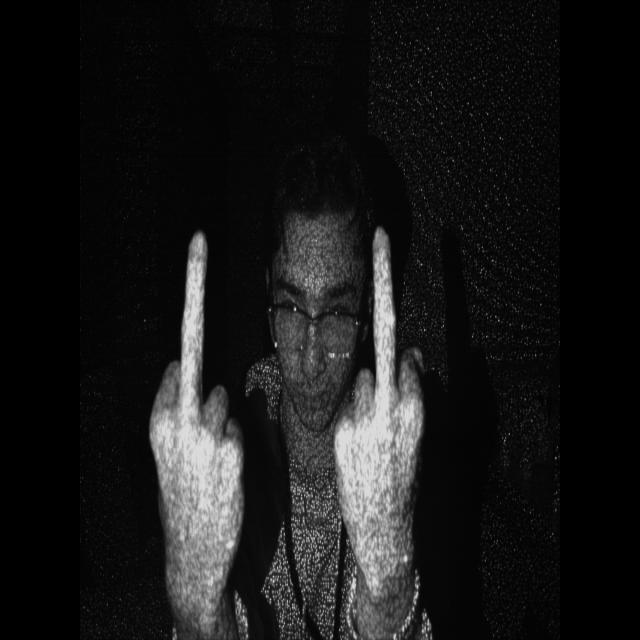FUCK YOU: (328, 214, 452, 606)
STARS: (156, 163, 246, 611)
